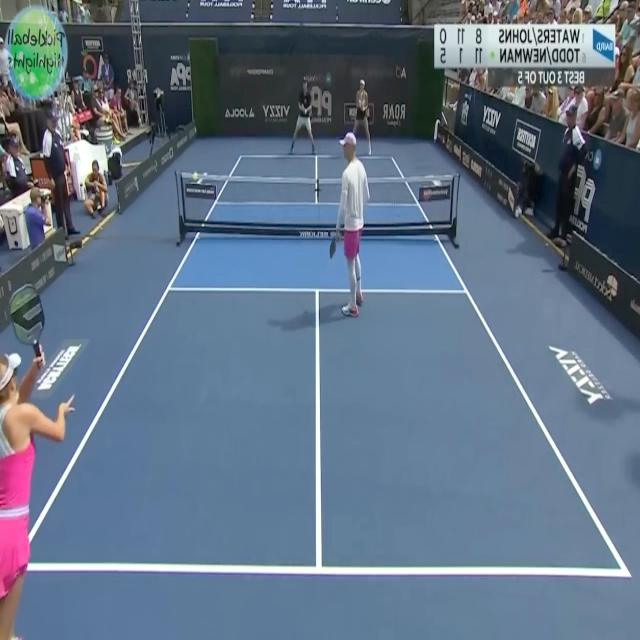Pickleball: (193, 169, 199, 183)
